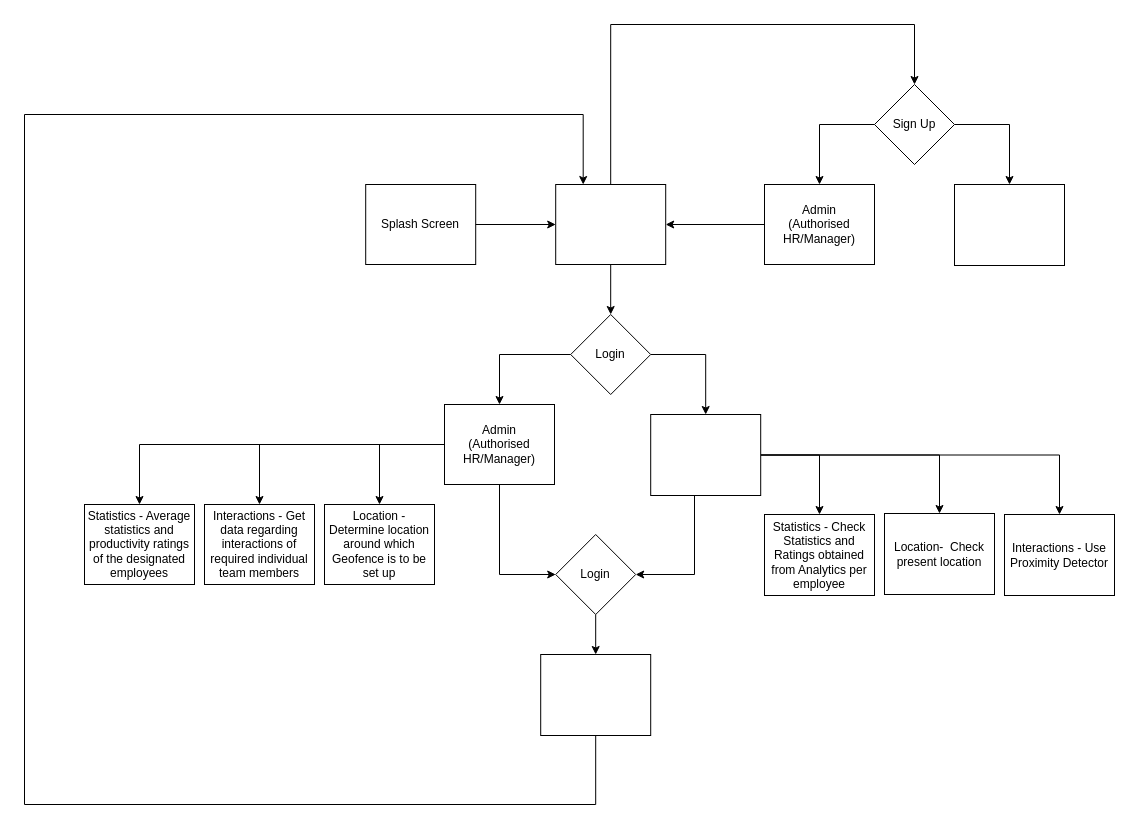
Some shapes in this 1132 by 830 pixel diagram are drawn without their labels. Each missing label, with the centre of its shape:
Login/Sign Up: the point at 610,224
Logout: the point at 595,695
User (Employee): the point at 1009,225
User Dashboard (Employee): the point at 705,455
